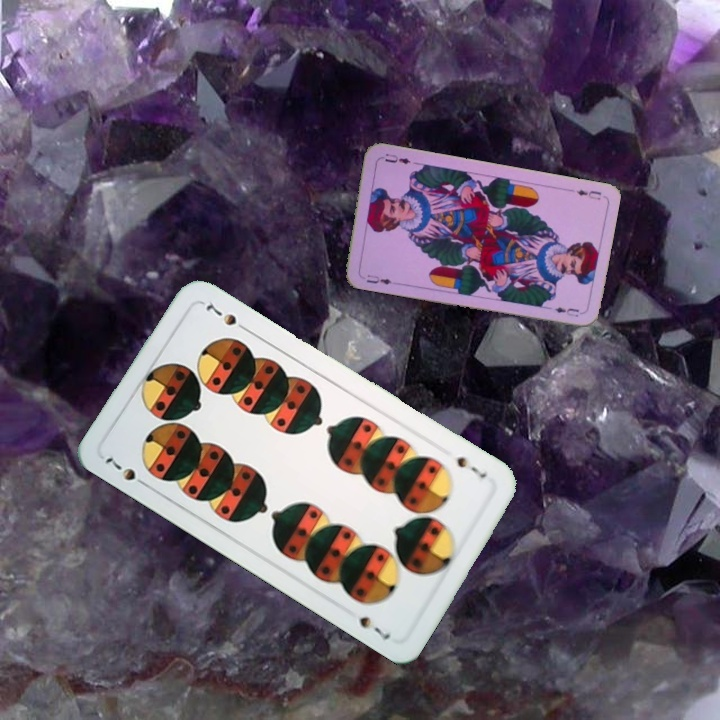EU: (573, 185, 604, 203), (362, 270, 394, 287)
S7: (101, 453, 152, 491), (452, 452, 490, 481)
